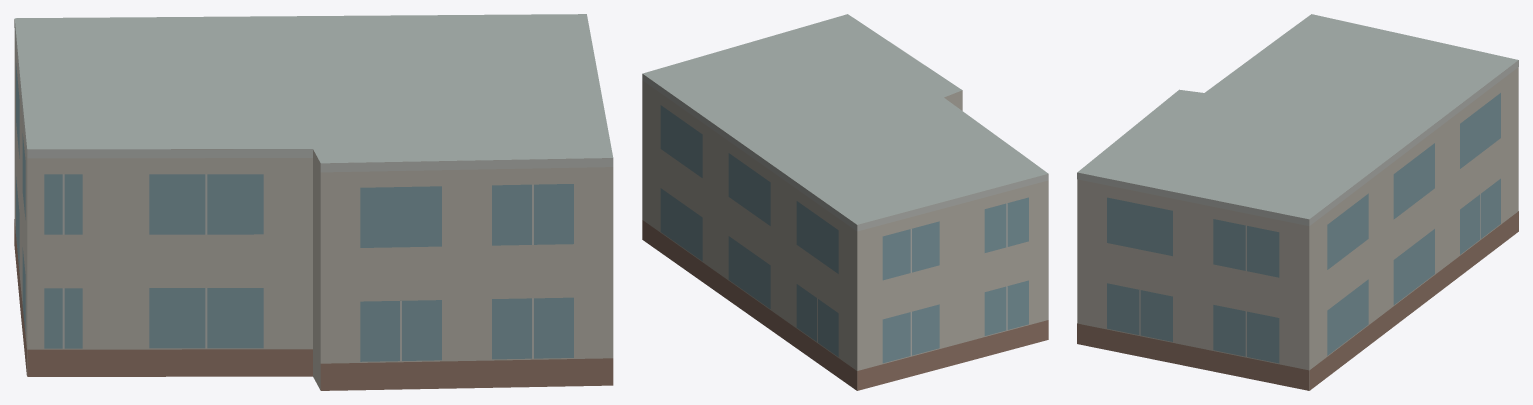
Rendered from survey-upis-32922046.glb.
3 views of the same model, side by side, from view 1: azimuth 30°, elevation 25°; view 2: azimuth 150°, elevation 25°; view 3: azimuth 270°, elevation 25° (orthographic). The views are drawn at different scales.
Parts seen in each view (by area): view 1: survey-upis-32922046.tmp; view 2: survey-upis-32922046.tmp; view 3: survey-upis-32922046.tmp.
Part boxes in pixels (x1=…): survey-upis-32922046.tmp: x1=14, y1=14, x2=613, y2=390; survey-upis-32922046.tmp: x1=642, y1=14, x2=1048, y2=390; survey-upis-32922046.tmp: x1=1077, y1=14, x2=1518, y2=390.
Size of the model in its own units: 15.67 by 6.1 by 14.24.
